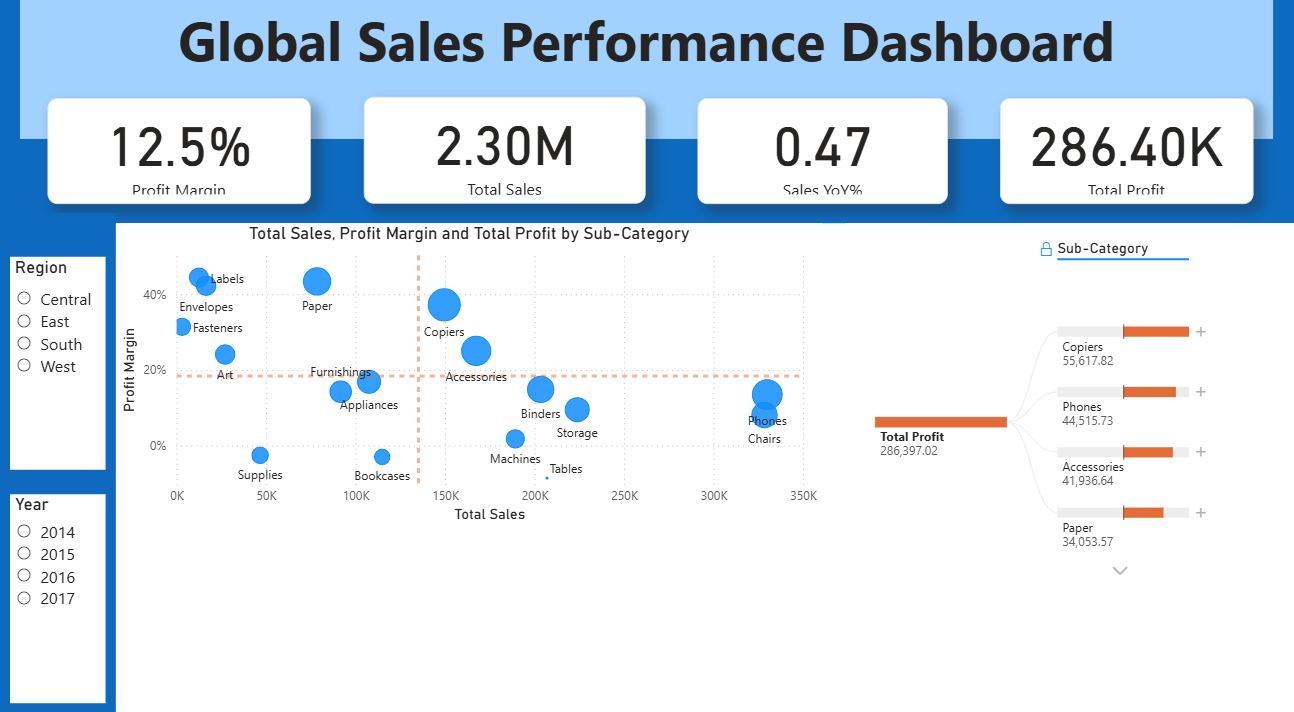

The page's visual inventory and layout, read from the dashboard file:
{"tool":"powerbi","page":{"name":"Duplicate of Page 1","canvas":[1280,720],"ordinal":1},"visuals":[{"type":"textbox","box":[0,0,1280.2,222.2],"z":0},{"type":"textbox","box":[19.9,0,1237.7,139.3],"z":1000},{"type":"card","fields":{"Values":["Sample - Superstore.Total Sales"]},"box":[358.7,97,278.6,105.7],"z":2000},{"type":"card","fields":{"Values":["Sample - Superstore.Total Profit"]},"box":[987.7,98.3,250,104.5],"z":3000},{"type":"card","fields":{"Values":["Sample - Superstore.Profit Margin"]},"box":[47.3,98.3,260,104.5],"z":4000},{"type":"textbox","box":[0,212.7,114.4,507.5],"z":5000},{"type":"card","fields":{"Values":["Sample - Superstore.Sales YoY%"]},"box":[688.7,98.3,247.5,104.5],"z":6000},{"type":"listSlicer","fields":{"Values":["DateTable.Date.Variation.Date Hierarchy.Year"]},"box":[10,490.1,94.5,206.5],"z":7000},{"type":"listSlicer","fields":{"Values":["Sample - Superstore.Region"]},"box":[10,255,94.5,210.2],"z":8000},{"type":"scatterChart","fields":{"X":["Sample - Superstore.Total Sales"],"Y":["Sample - Superstore.Profit Margin"],"Category":["Sample - Superstore.Sub-Category"],"Size":["Sample - Superstore.Total Profit"]},"box":[114.8,222.2,697.5,301.2],"z":8001},{"type":"decompositionTreeVisual","fields":{"Analyze":["Sample - Superstore.Total Profit"],"ExplainBy":["Sample - Superstore.Sub-Category","Sample - Superstore.Ship Mode","Sample - Superstore.Region","Sample - Superstore.Category"]},"box":[834.6,222.2,445.7,371.6],"z":8002}]}

Visuals, with their boxes in screenshot pixels (x1, y1, x2, y2), scaled from the page's 1280x720 canvas onto the 1294x712 screenshot:
textbox: [0,0,1293,220]
textbox: [20,0,1271,138]
card - Sample - Superstore.Total Sales: [363,96,644,200]
card - Sample - Superstore.Total Profit: [999,97,1251,201]
card - Sample - Superstore.Profit Margin: [48,97,311,201]
textbox: [0,210,116,711]
card - Sample - Superstore.Sales YoY%: [696,97,946,201]
listSlicer - DateTable.Date.Variation.Date Hierarchy.Year: [10,485,106,689]
listSlicer - Sample - Superstore.Region: [10,252,106,460]
scatterChart - Sample - Superstore.Total Sales x Sample - Superstore.Profit Margin: [116,220,821,518]
decompositionTreeVisual - Sample - Superstore.Total Profit x Sample - Superstore.Sub-Category: [844,220,1293,587]
